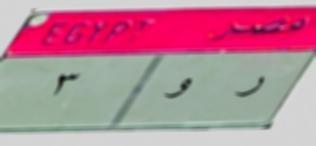3: (49, 70, 82, 105)
raa: (232, 68, 266, 108)
waw: (159, 75, 195, 105)
